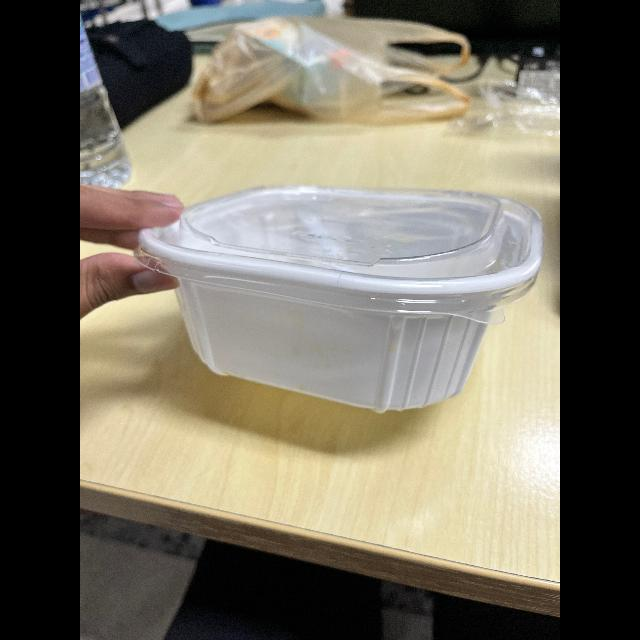plastic_box: (122, 154, 556, 412)
